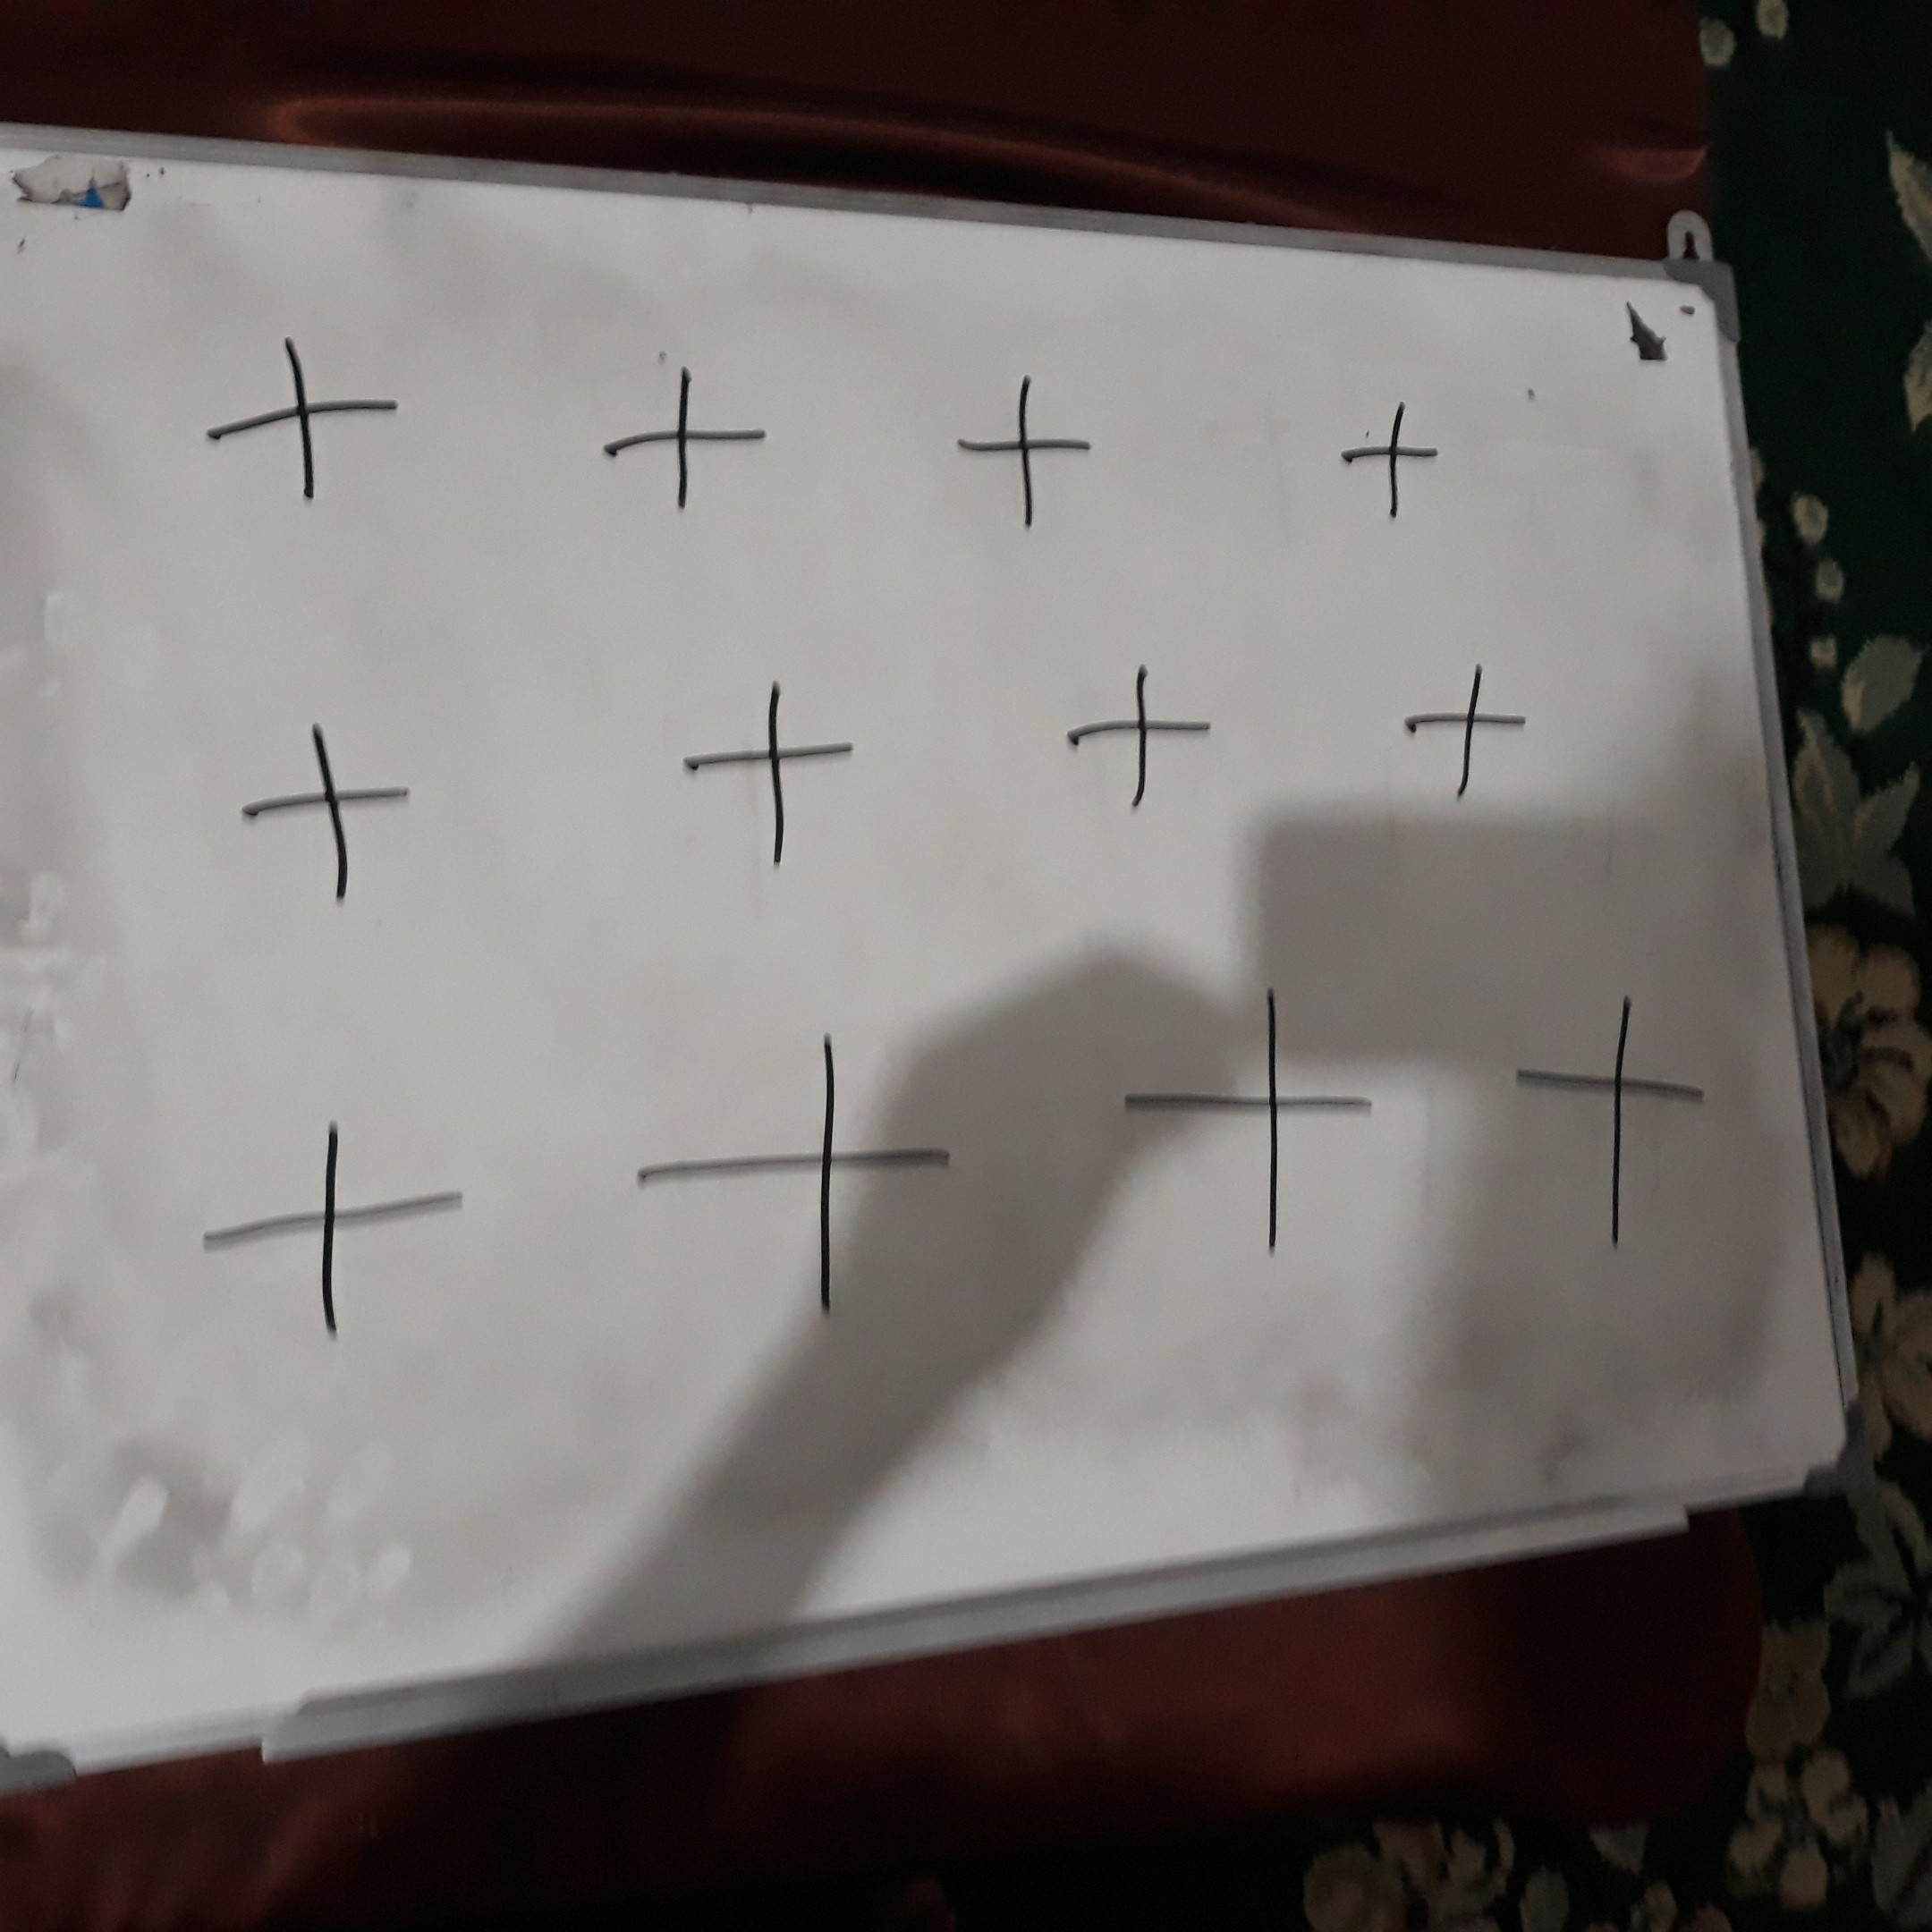sum: (624, 1004, 975, 1341), (1092, 963, 1413, 1274), (177, 1105, 485, 1353), (1487, 969, 1715, 1255), (191, 325, 431, 519), (668, 655, 870, 884), (223, 708, 433, 921), (589, 345, 781, 538), (1041, 653, 1228, 825), (940, 358, 1113, 539), (1385, 640, 1547, 809), (1313, 375, 1463, 541)
